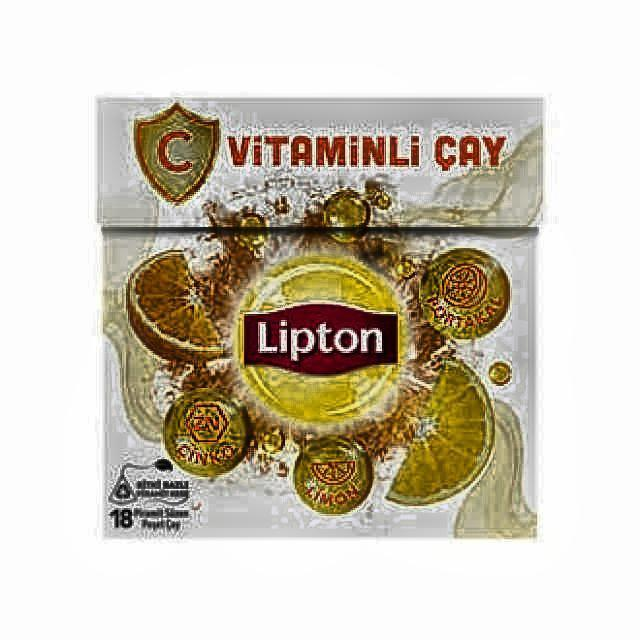cardboard: (93, 93, 549, 548)
